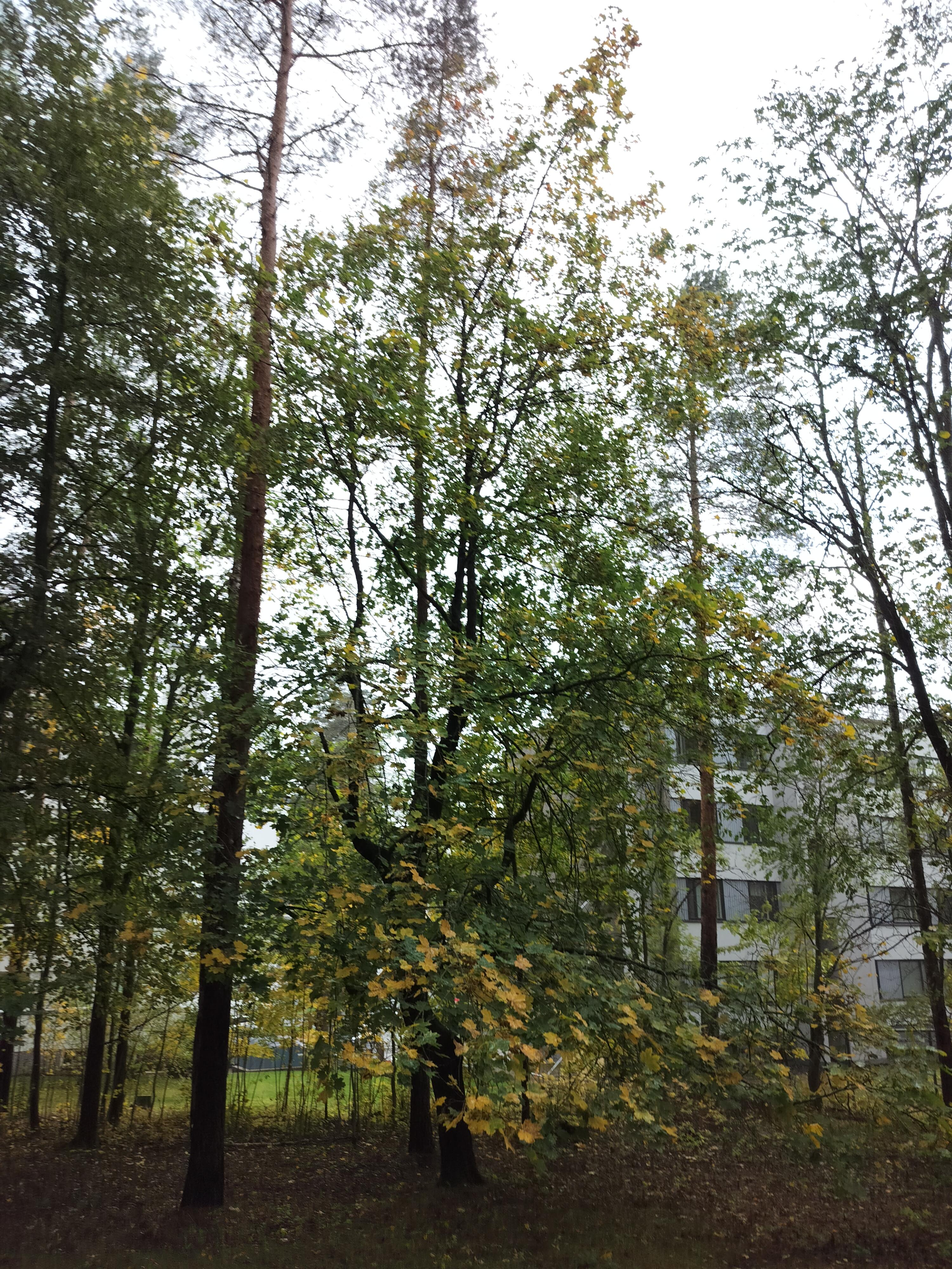Maple: (287, 1, 935, 1180), (287, 1, 681, 1192)
